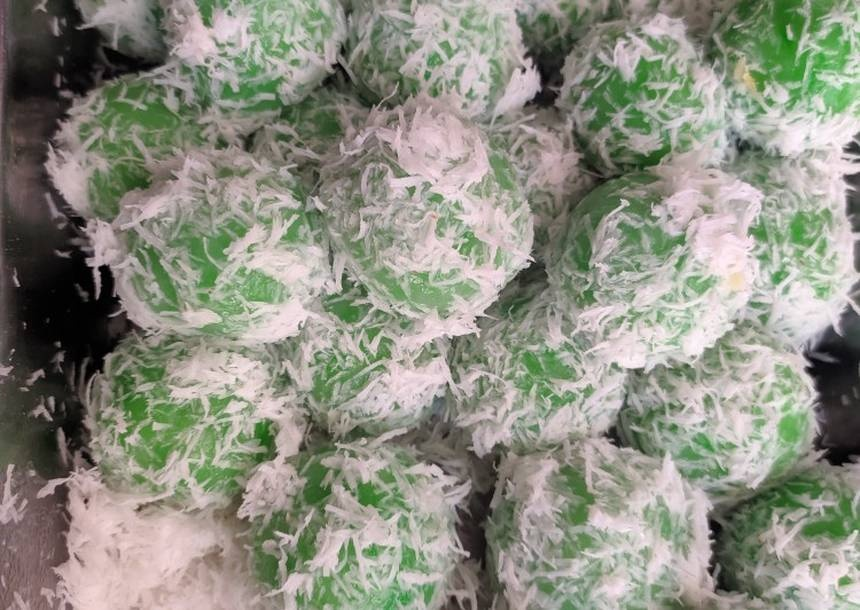klepon: (300, 104, 537, 326), (71, 159, 330, 342), (558, 175, 772, 372), (480, 447, 734, 609), (228, 440, 463, 610)
